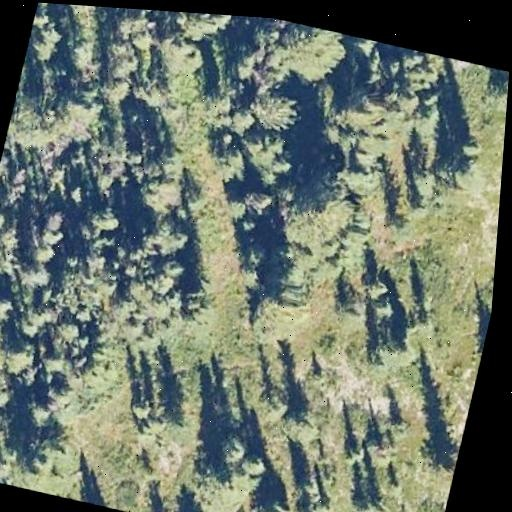tree-top: (272, 20, 355, 90), (188, 453, 263, 512), (155, 16, 216, 81), (245, 283, 305, 347), (240, 123, 298, 179), (248, 82, 306, 137), (144, 211, 200, 261), (138, 169, 189, 220), (30, 423, 81, 472), (369, 324, 421, 372), (96, 36, 145, 86), (27, 209, 76, 259), (168, 11, 230, 49), (25, 16, 70, 65), (278, 399, 324, 446), (419, 431, 462, 481), (441, 133, 484, 182), (0, 333, 41, 381), (64, 30, 107, 73), (156, 399, 197, 443), (336, 157, 380, 197), (284, 476, 332, 512), (210, 428, 249, 470), (95, 69, 137, 108), (33, 201, 71, 244), (405, 161, 444, 199), (84, 198, 124, 235), (15, 257, 53, 293), (239, 184, 275, 220), (224, 101, 260, 137), (345, 485, 391, 512), (49, 313, 85, 347), (22, 394, 57, 428), (240, 446, 274, 478), (36, 346, 70, 378), (484, 70, 509, 113), (452, 133, 485, 163), (358, 271, 389, 302), (252, 490, 295, 512), (339, 439, 368, 467), (66, 180, 91, 206), (129, 395, 155, 420), (0, 365, 15, 406), (349, 35, 378, 55), (79, 489, 110, 507), (0, 149, 15, 184)
